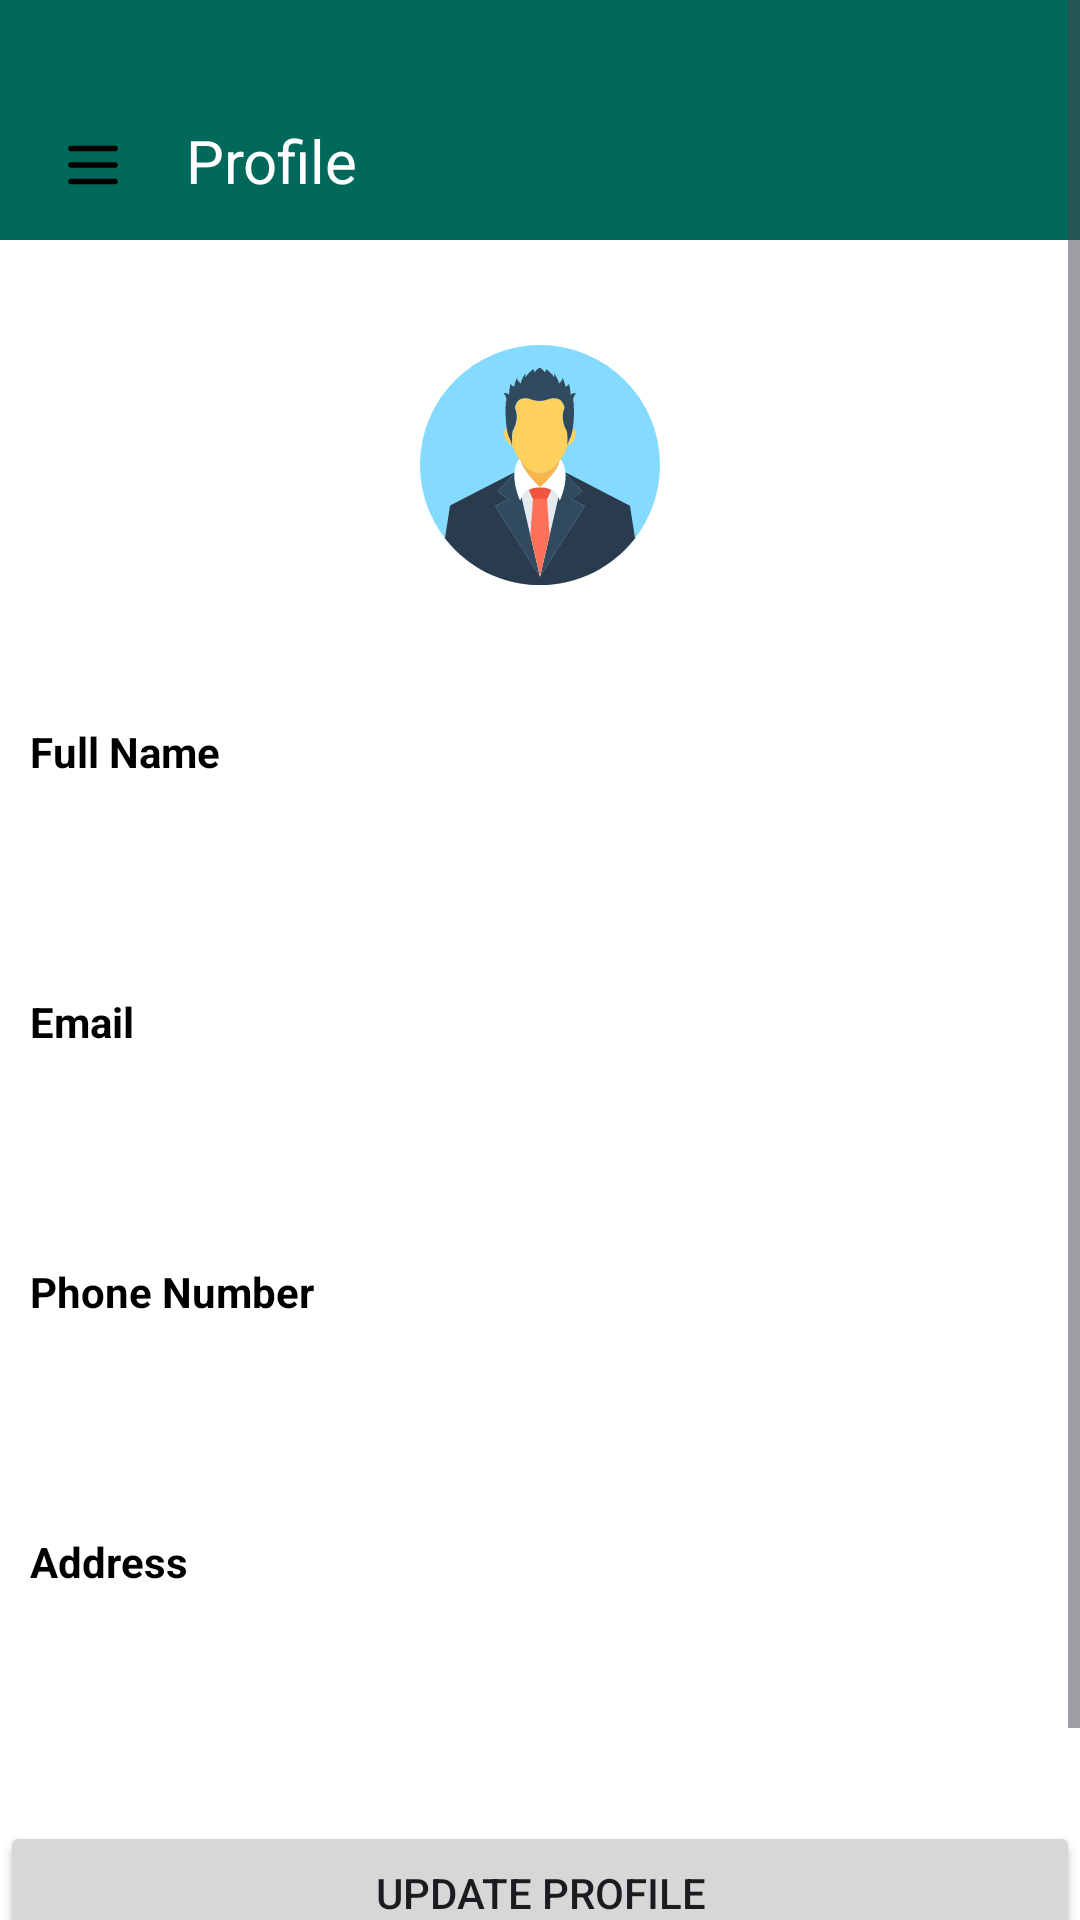

Icon bounding boxes for this 1080×1920 phone screenshot, format detection(x1, y1, x2, y2):
Menu: detection(68, 145, 118, 185)
